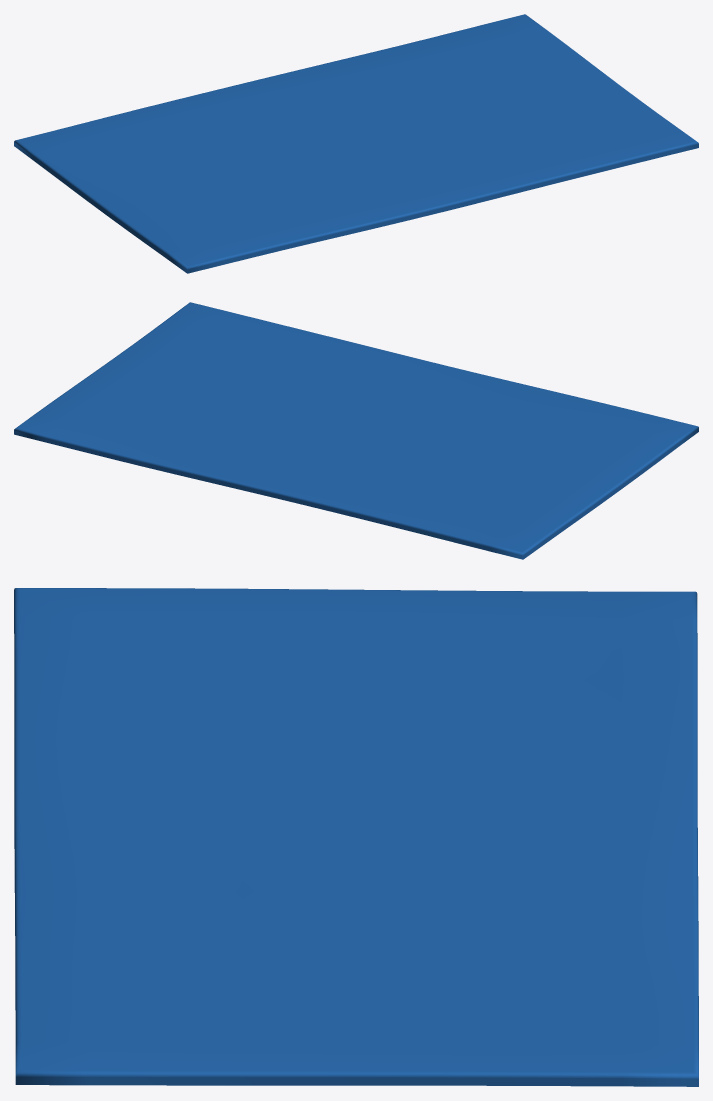
File: Mattress.FBX
3 views of the same model, one above another, from view 1: azimuth 30°, elevation 25°; view 2: azimuth 150°, elevation 25°; view 3: azimuth 270°, elevation 25° (orthographic). The views are drawn at different scales.
Visible parts, largest first — view 1: mattress; view 2: mattress; view 3: mattress.
Part boxes in pixels (x1,y1,x2,y2): mattress: [14, 14, 698, 273]; mattress: [14, 302, 698, 559]; mattress: [14, 588, 698, 1086].
Size of the model in its own units: 202 by 2.95 by 120.
Materials: 1 (1 with a texture image).
